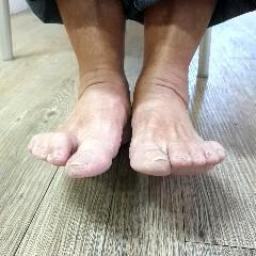Front View -Both Feet-: (17, 39, 242, 205)
